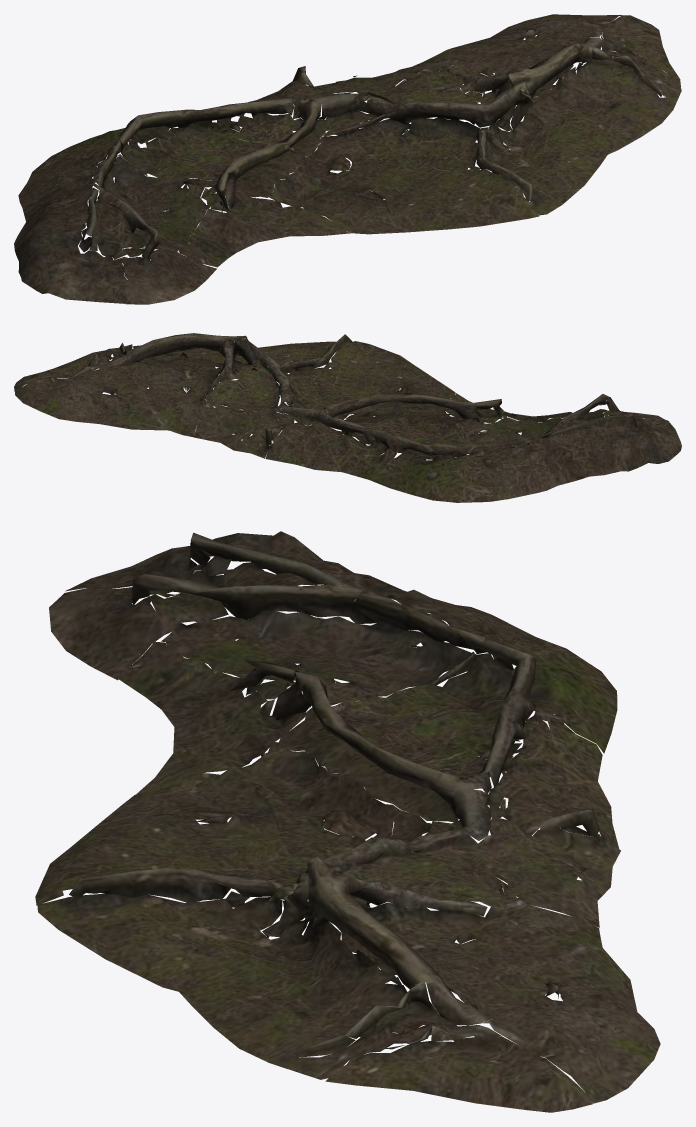
File: pine_roots.glb
3 renders of one model, top to bottom at view 1: azimuth 30°, elevation 25°; view 2: azimuth 150°, elevation 25°; view 3: azimuth 270°, elevation 25°, orthographic. The views are drawn at different scales.
Parts seen in each view (by area): view 1: pine_roots_a; view 2: pine_roots_a; view 3: pine_roots_a.
Boxes of the visible parts, left/top/right/bottom form: pine_roots_a: left=14, top=14, right=681, bottom=304; pine_roots_a: left=14, top=333, right=681, bottom=502; pine_roots_a: left=35, top=531, right=660, bottom=1112.
Size of the model in its own units: 1.74 by 0.146 by 0.8263.
Materials: 1 (1 with a texture image).
